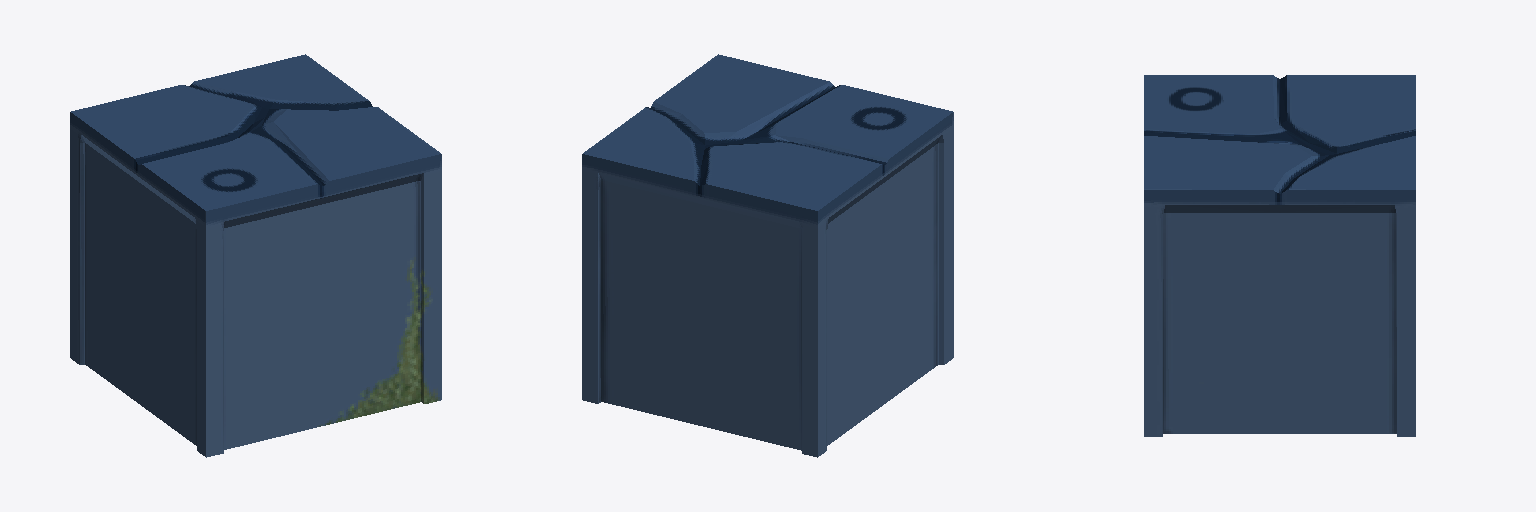
The picture shows the model from 3 angles: view 1: azimuth 30°, elevation 25°; view 2: azimuth 150°, elevation 25°; view 3: azimuth 270°, elevation 25°; orthographic projection.
Visible parts, largest first — view 1: TileV2; view 2: TileV2; view 3: TileV2.
Boxes of the visible parts, x1,y1,x2,y2 form: TileV2: [70, 54, 441, 457]; TileV2: [582, 54, 953, 457]; TileV2: [1144, 75, 1415, 436].
Size of the model in its own units: 5 by 5 by 5.
Materials: 1 (1 with a texture image).